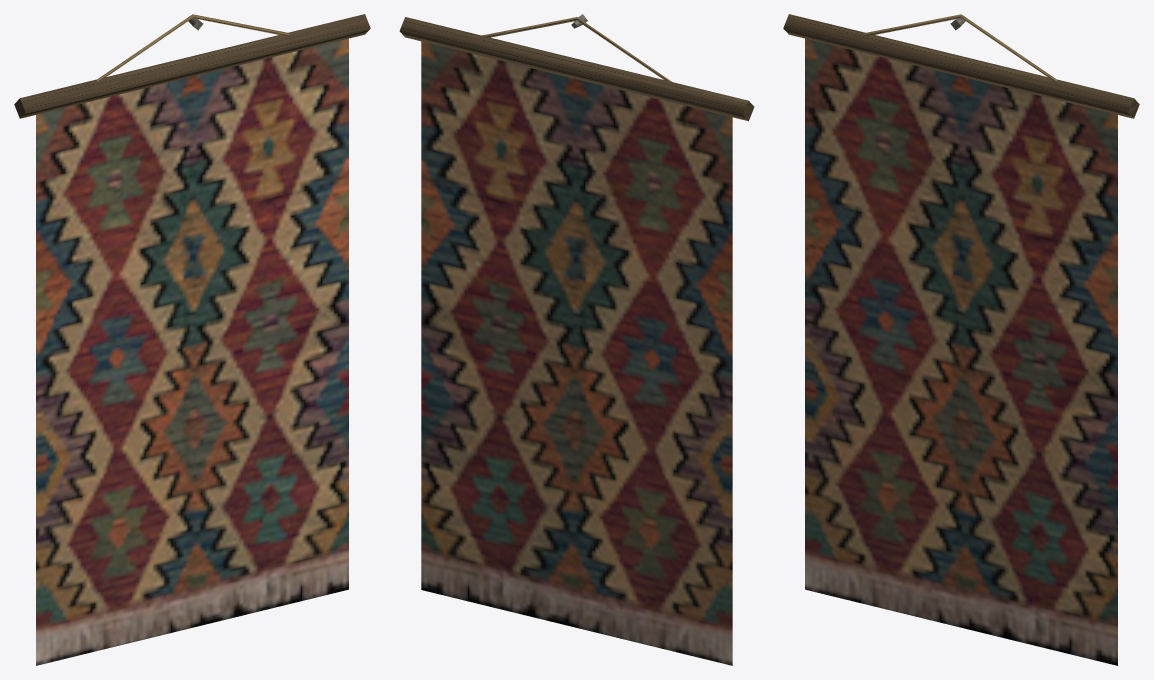
File: tapestry01.glb
3 views of the same model, side by side, from view 1: azimuth 30°, elevation 25°; view 2: azimuth 150°, elevation 25°; view 3: azimuth 330°, elevation 25° (orthographic).
Visible parts, largest first — view 1: tapestry01; view 2: tapestry01; view 3: tapestry01.
Boxes of the visible parts, x1,y1,x2,y2 form: tapestry01: (14,14,370,665); tapestry01: (399,14,754,665); tapestry01: (783,14,1139,665).
Bounding box in the file's own units: 0.7099 × 1.21 × 0.0409.
Materials: 4 (4 with a texture image).
